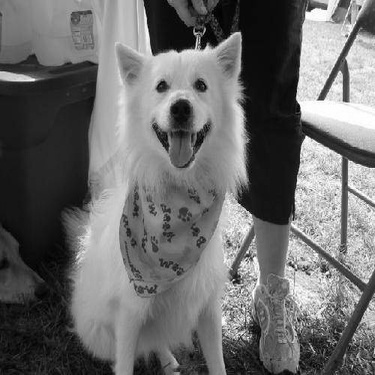dog: (57, 38, 252, 373), (1, 229, 57, 310)
